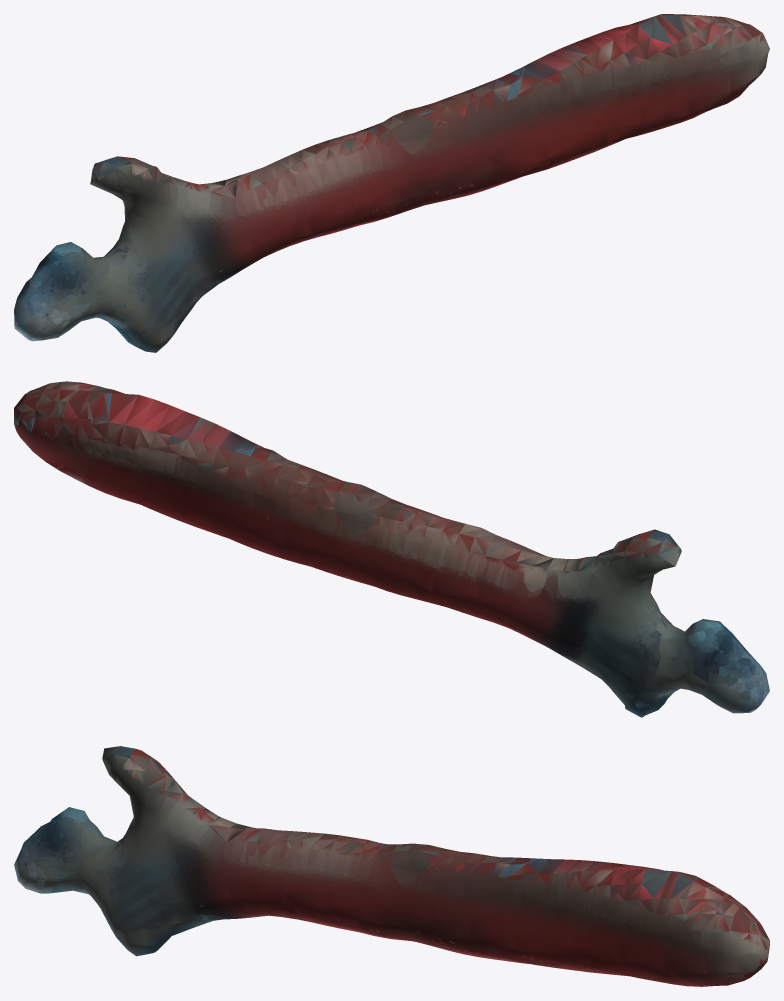
The model's file is wrench_new_egocentric.fbx.
The picture shows the model from 3 angles, top to bottom: view 1: azimuth 30°, elevation 25°; view 2: azimuth 150°, elevation 25°; view 3: azimuth 330°, elevation 25°; orthographic projection.
Visible parts, largest first — view 1: wrench_new; view 2: wrench_new; view 3: wrench_new.
Part boxes in pixels (left/top/right/bottom): wrench_new: left=14, top=14, right=769, bottom=352; wrench_new: left=14, top=381, right=769, bottom=717; wrench_new: left=14, top=746, right=769, bottom=986.
Size of the model in its own units: 24.76 by 6.39 by 2.41.
Materials: 1 (1 with a texture image).
